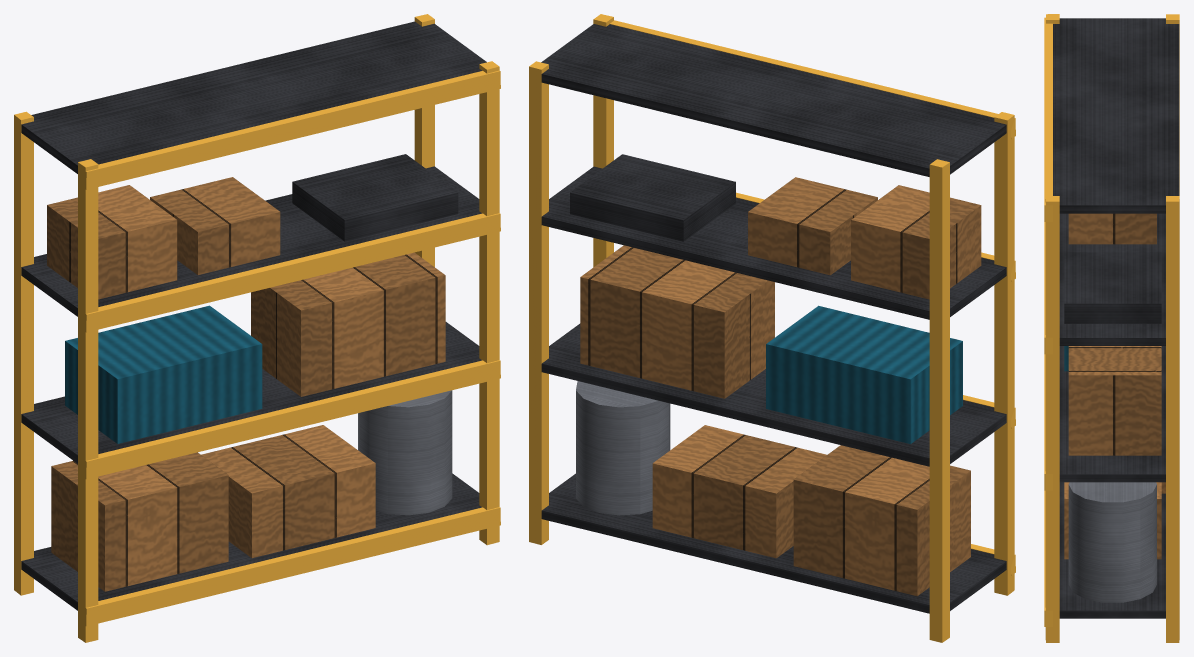
Rendered from Shelf_Main.fbx.
The picture shows the model from 3 angles, left to right: view 1: azimuth 30°, elevation 25°; view 2: azimuth 150°, elevation 25°; view 3: azimuth 270°, elevation 25°; orthographic projection. The views are drawn at different scales.
Parts seen in each view (by area): view 1: Shelf_Main; view 2: Shelf_Main; view 3: Shelf_Main.
Boxes of the visible parts, x1,y1,x2,y2 form: Shelf_Main: [14, 14, 500, 642]; Shelf_Main: [529, 14, 1015, 642]; Shelf_Main: [1044, 14, 1179, 642].
Size of the model in its own units: 2.01 by 2.2 by 0.612.
5 materials, 4 textured.
